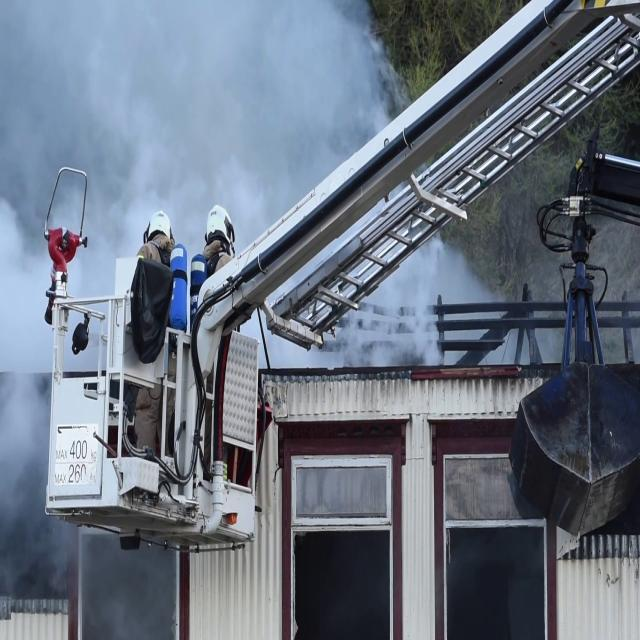Smoke: (1, 0, 388, 266), (329, 248, 451, 380), (0, 363, 52, 538)
